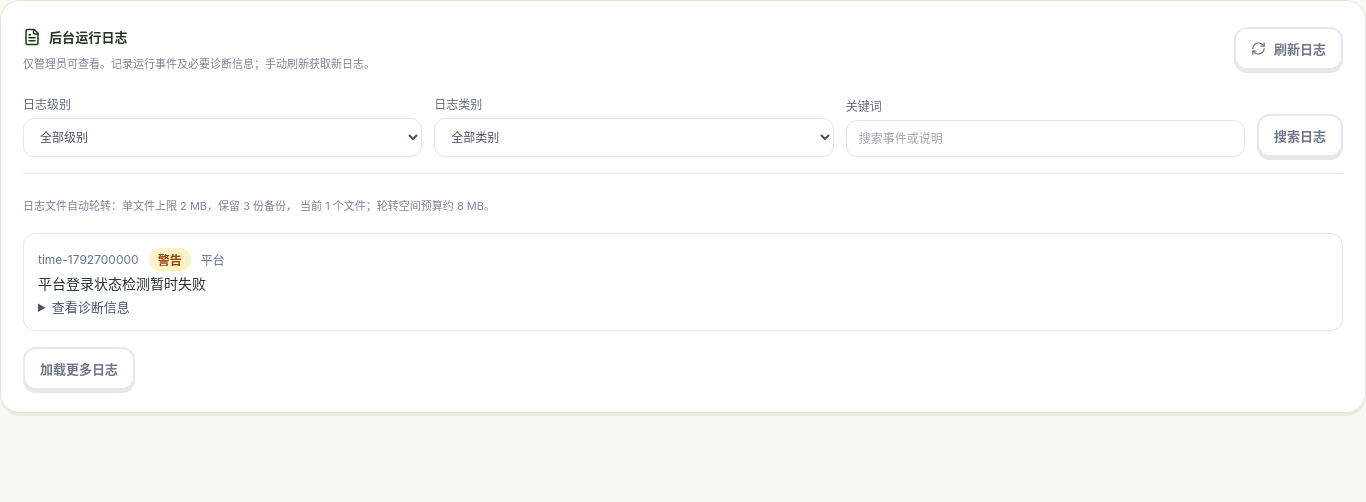
Scenario: preserves a failed pagination cursor for retry without replacing or duplicating previous records
The image size is (1366, 502).
Click the button "加载更多日志" at (79, 368), box 23,347 -> 135,390
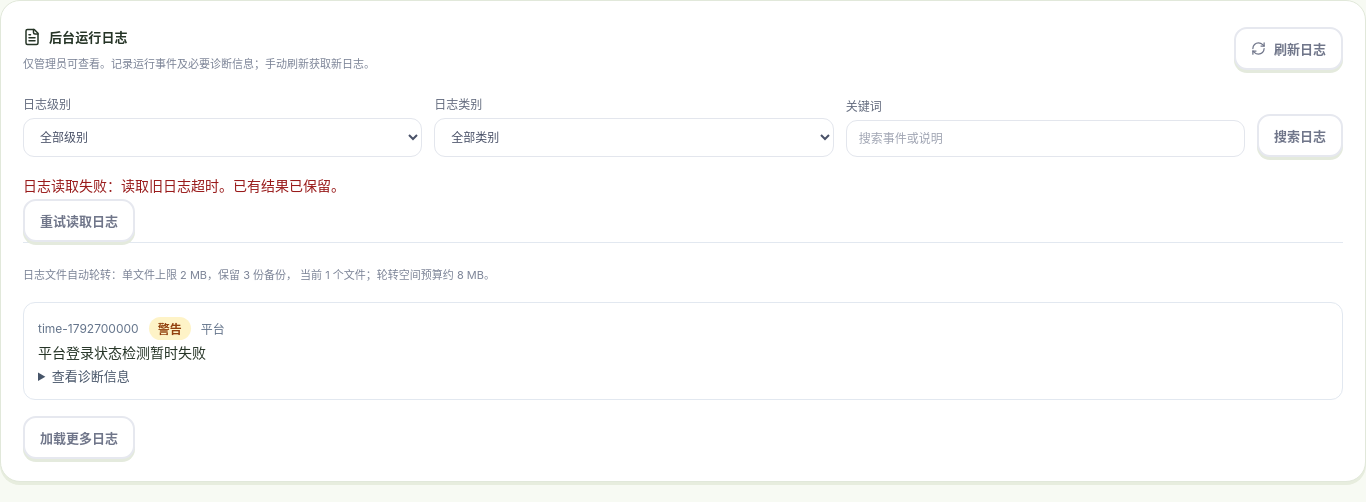
Expected: the number of elements with class "system-log-entry" is 1, 23,302 -> 1343,400
Click the button "重试读取日志" at (79, 220), box 23,199 -> 135,242
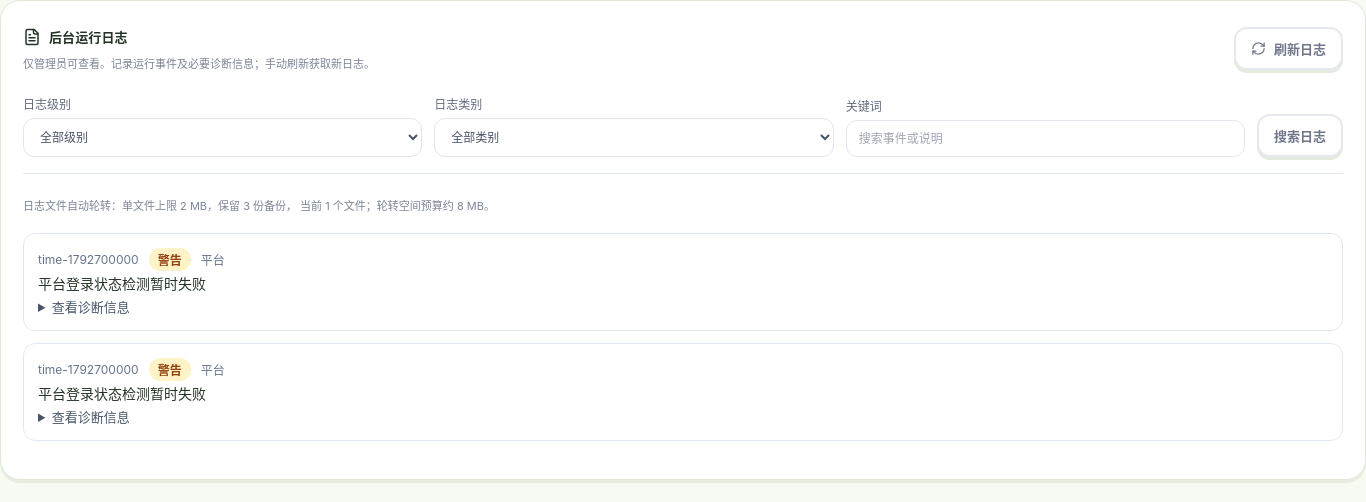
Expected: the number of elements with class "system-log-entry" is 2, 23,233 -> 1343,331; 23,343 -> 1343,441
